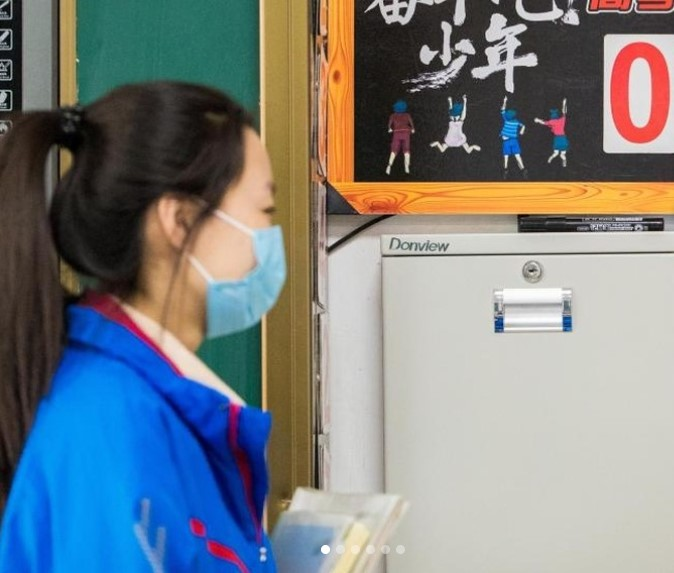face_with_mask: (57, 88, 288, 342)
